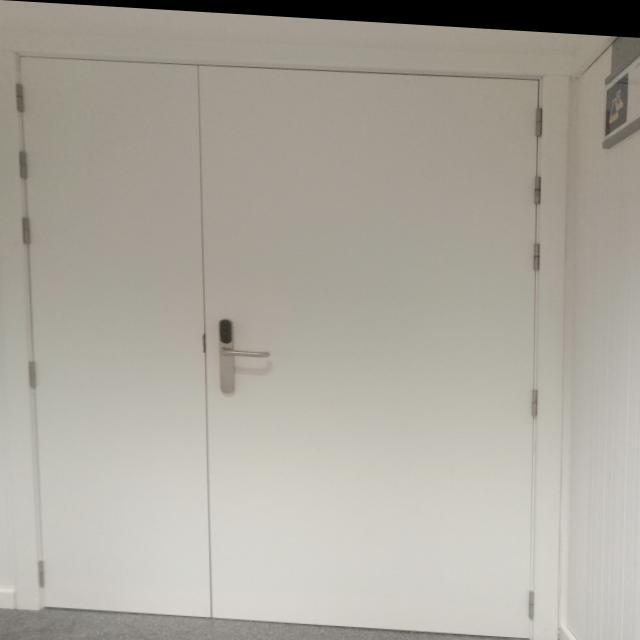door_handle: (217, 343, 273, 356)
